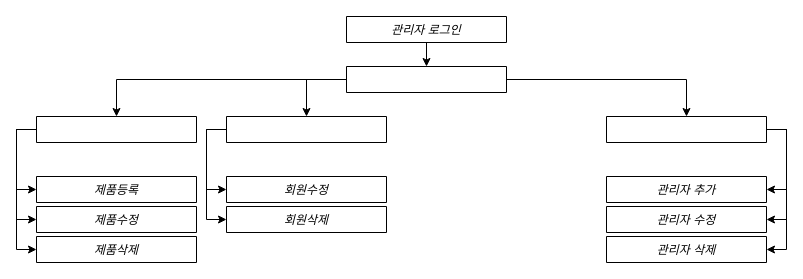
Image size: 803x279. Some labels were removed from this diagram. Here are the shapes that lost their labels. From the top down, the box of each, then its label:
(346, 66, 506, 92): 관리자 메인화면
(36, 116, 196, 142): 제품목록
(226, 116, 386, 142): 회원목록
(606, 116, 766, 142): 최고 관리자
